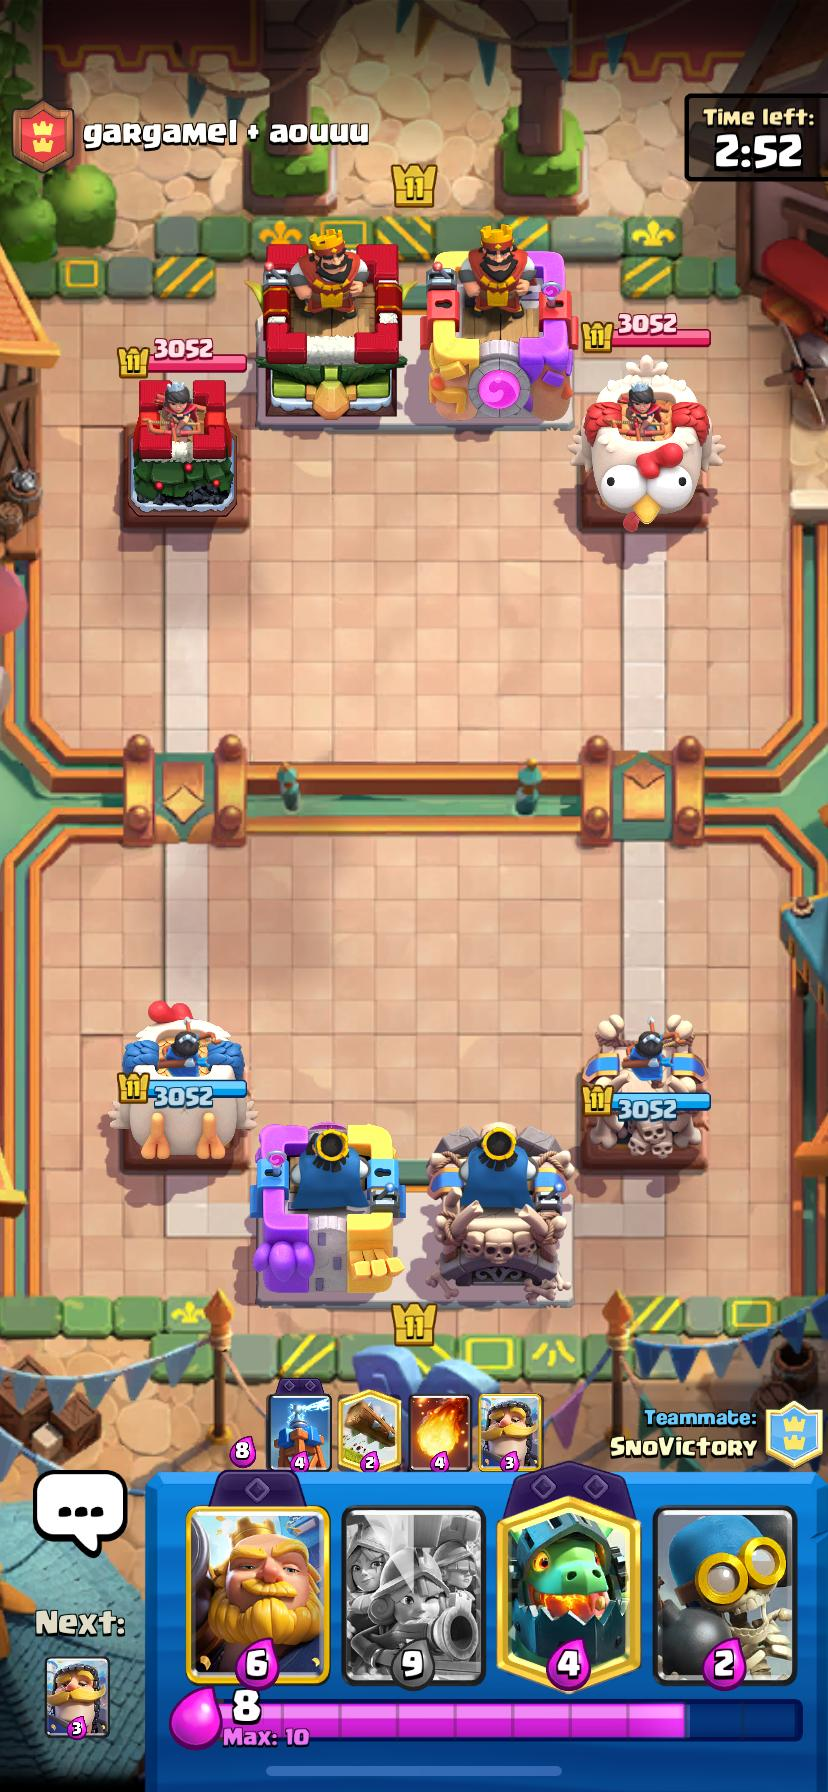EKingTower: (428, 226, 578, 418), (257, 229, 401, 418)
EnemyPrincessTower: (578, 361, 720, 529), (126, 375, 236, 520)
OwnKingTower: (428, 1122, 574, 1305), (253, 1123, 404, 1299)
OwnPrincessTower: (110, 1016, 253, 1159), (580, 1015, 710, 1162)
